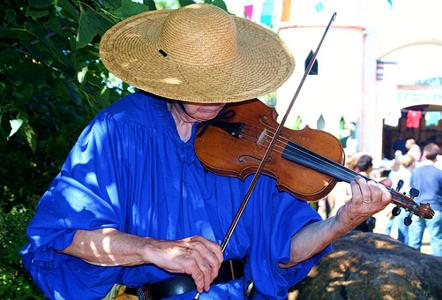person: (22, 5, 395, 300)
